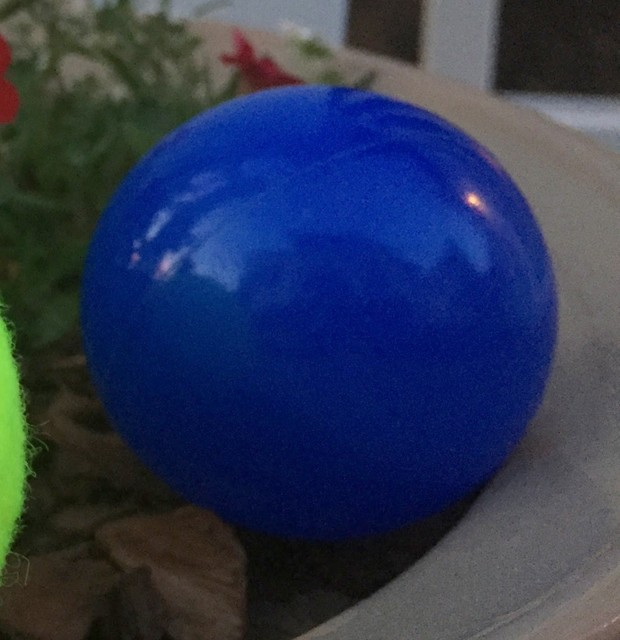Ball: (81, 85, 556, 531)
